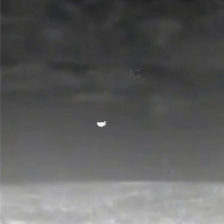Target: (97, 120, 107, 128)
